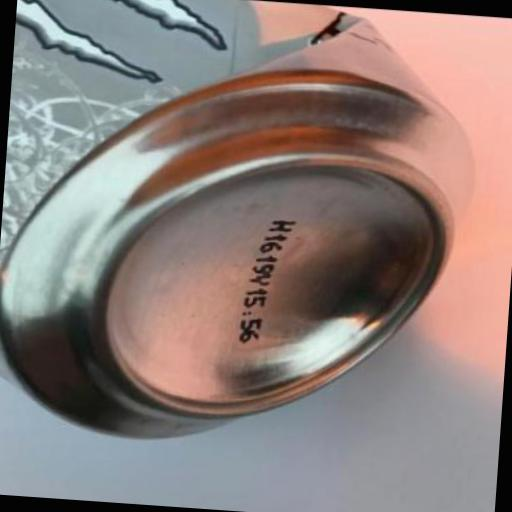metal: (0, 0, 490, 461)
